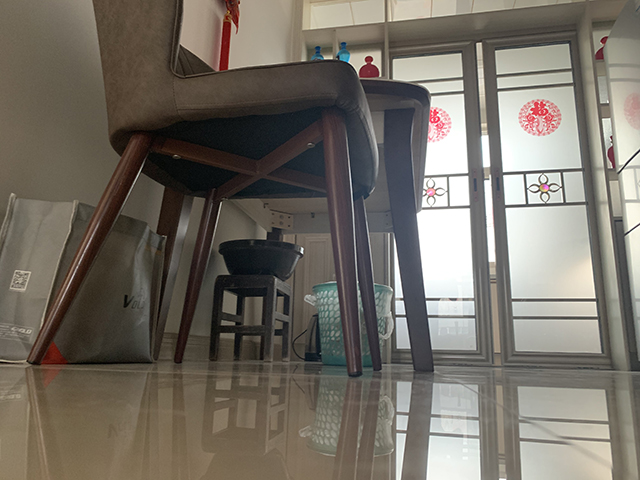stool: (24, 1, 385, 379), (207, 273, 293, 363)
trashcan: (311, 279, 395, 369)
wire: (293, 328, 310, 361)
